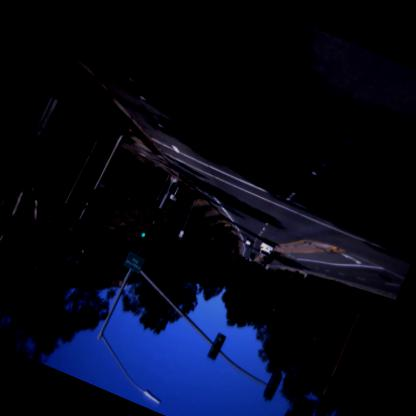trafficlight: (47, 214, 86, 269), (204, 329, 228, 364), (127, 224, 150, 256)
